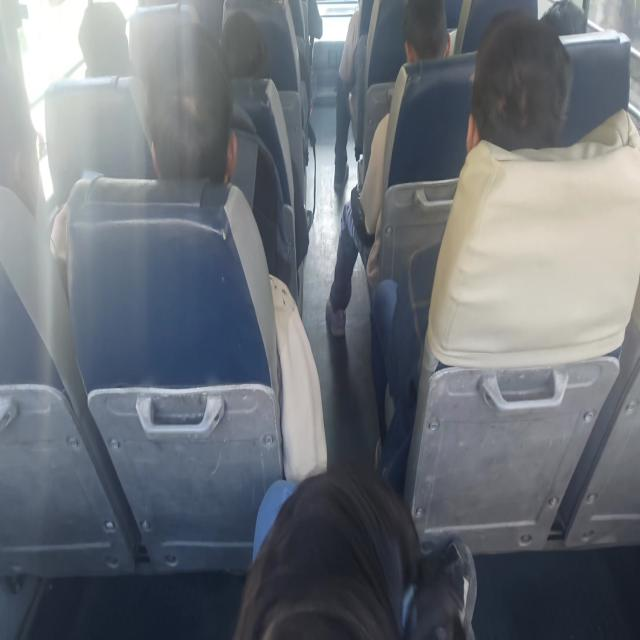person: (242, 472, 468, 640), (156, 41, 265, 200), (475, 22, 570, 174), (210, 6, 276, 79), (0, 85, 49, 180), (76, 0, 135, 71), (400, 11, 458, 73), (538, 1, 600, 56)
